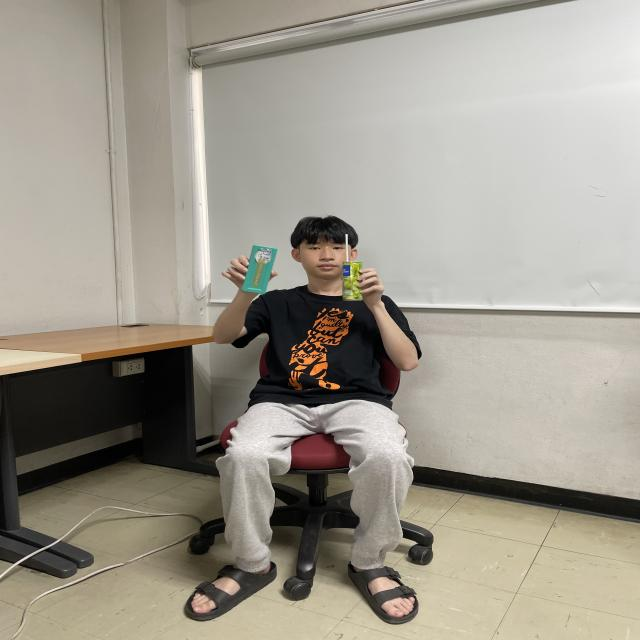can: (341, 261, 364, 302)
